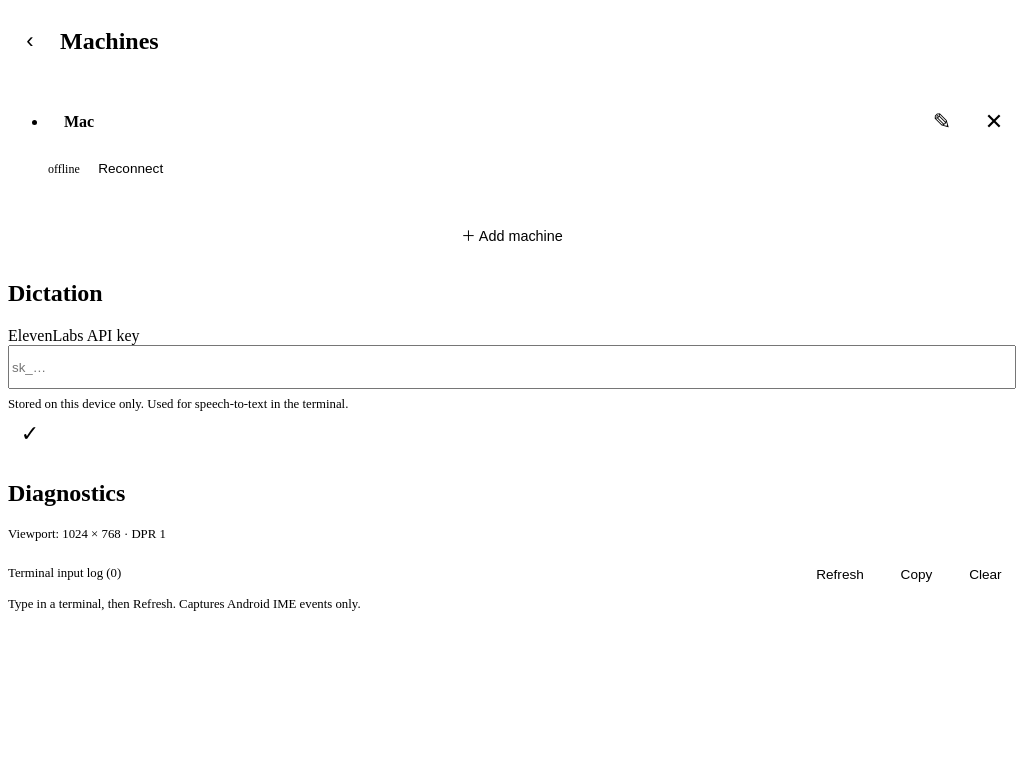
Test case: Settings › saves an edited url and token, then collapses the form
Click the button named "edit".
click(942, 122)  # box [920,100,964,144]
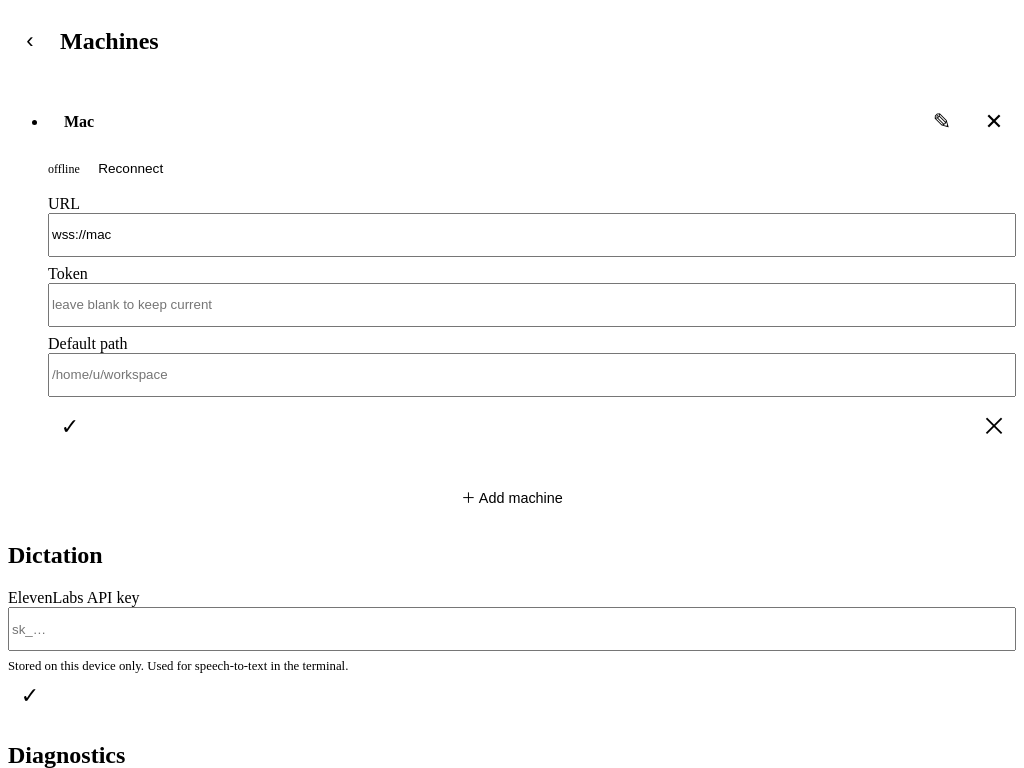
Replace the text in the field with test id "edit-url" with "wss://mac2" at (532, 235), box [48,213,1016,257]
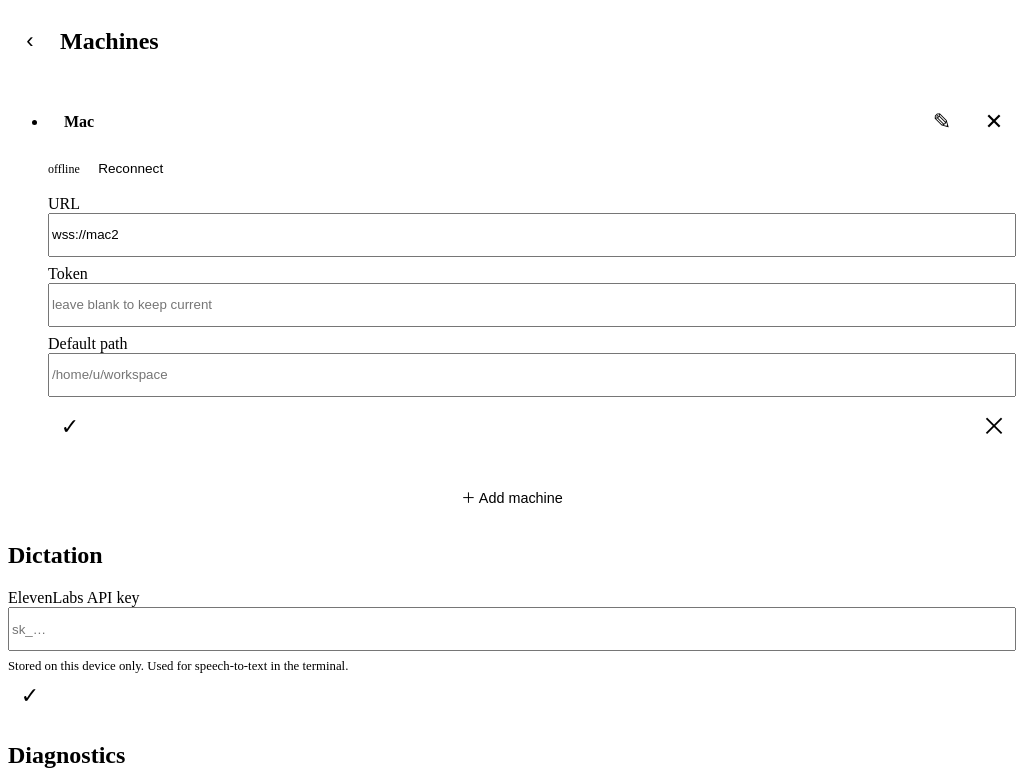
Type "newtok" into the password field with test id "edit-token".
click(532, 305); type("newtok")  # box [48,283,1016,327]
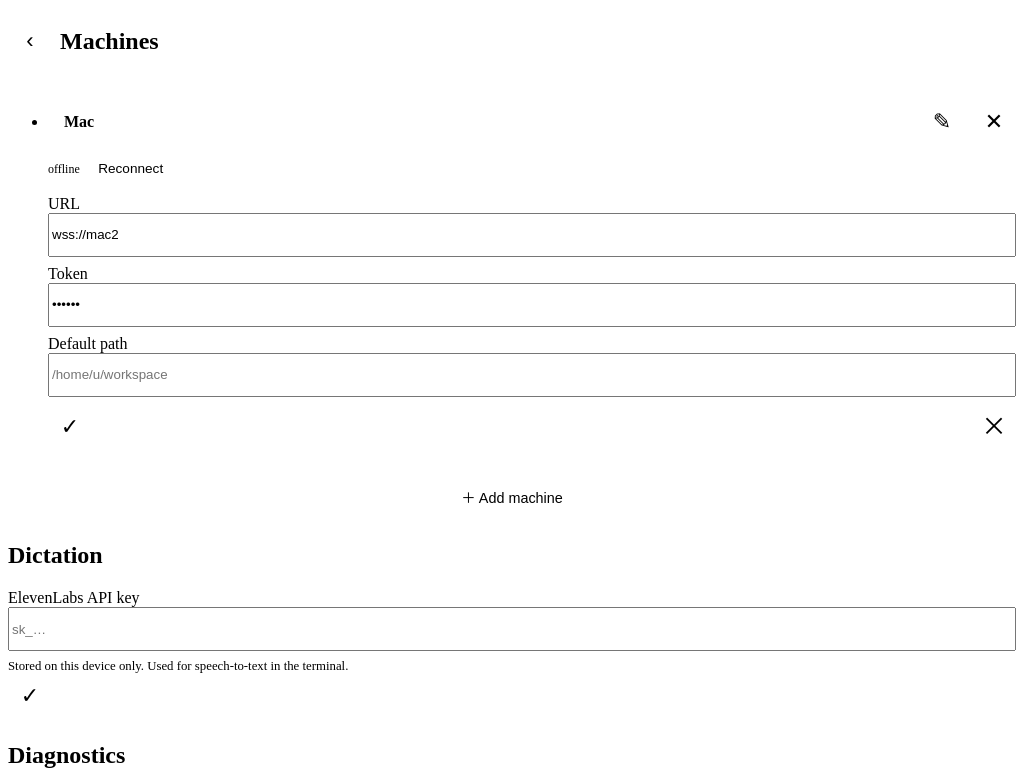
Click the button named "save".
click(70, 427)  # box [48,405,92,449]
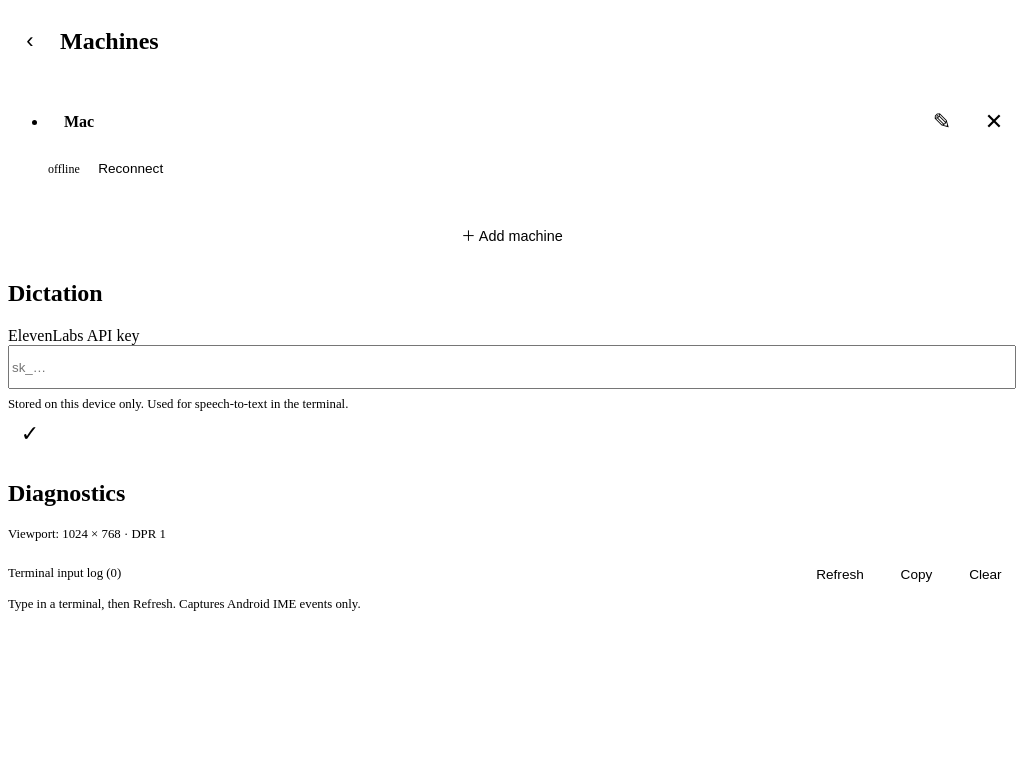
Check: the field with test id "edit-url" is gone
